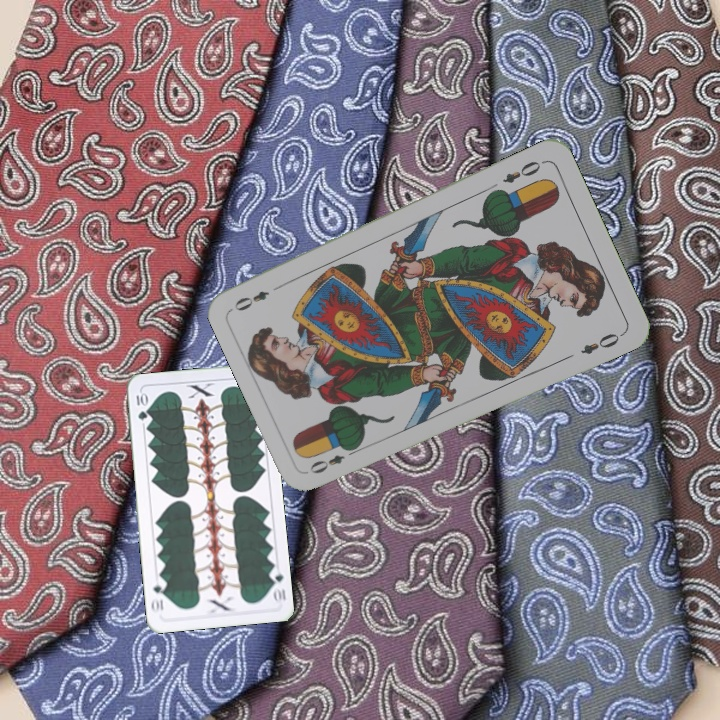EO: (305, 443, 361, 477), (498, 156, 544, 186)
G10: (266, 565, 288, 605), (132, 389, 149, 423)
